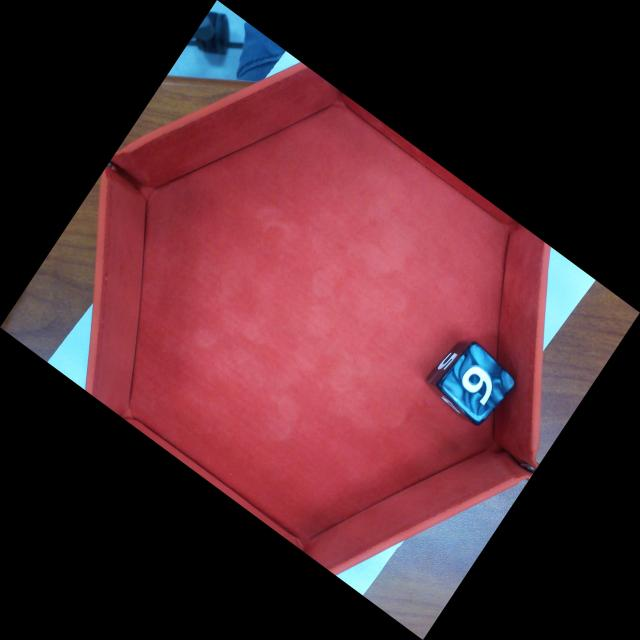dice: (441, 345, 516, 425)
